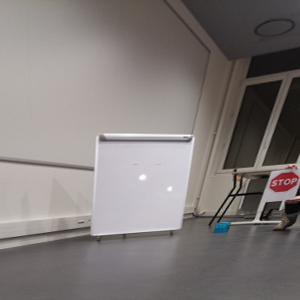big: (92, 131, 194, 237)
small: (213, 221, 231, 233)
